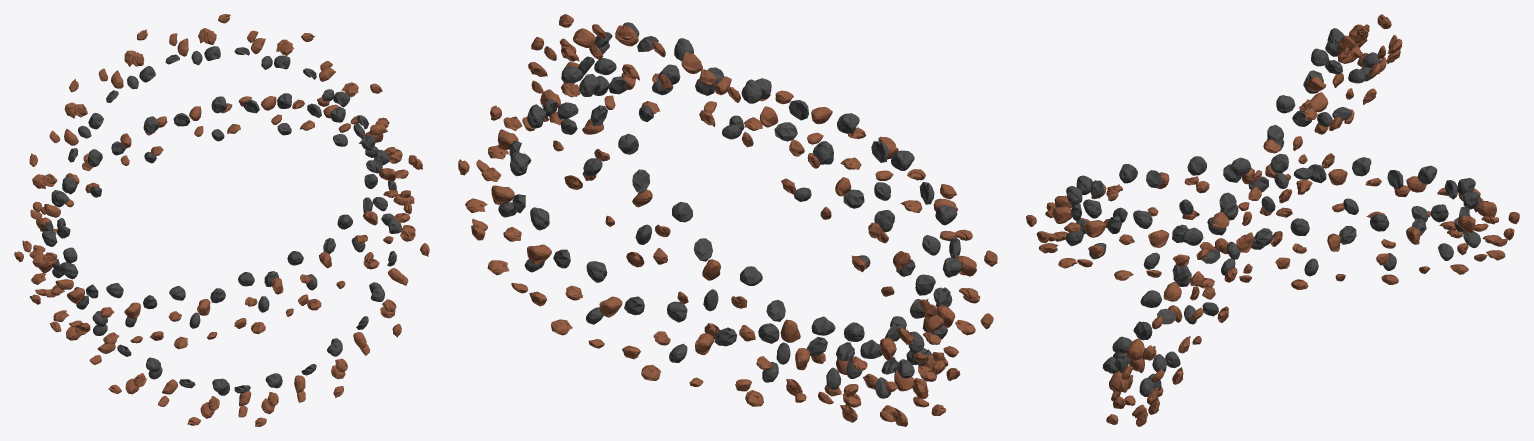
Rendered from AsteroidCircleDual.glb.
3 renders of one model, left to right at view 1: azimuth 30°, elevation 25°; view 2: azimuth 150°, elevation 25°; view 3: azimuth 270°, elevation 25°, orthographic. The views are drawn at different scales.
Visible parts, largest first — view 1: AsteroidCircleDual; view 2: AsteroidCircleDual; view 3: AsteroidCircleDual.
Part boxes in pixels (x1,y1,x2,y2): AsteroidCircleDual: (14,14,429,426); AsteroidCircleDual: (458,14,997,426); AsteroidCircleDual: (1026,14,1519,426).
Size of the model in its own units: 44.59 by 40.29 by 45.89.
Materials: 1 (1 with a texture image).
